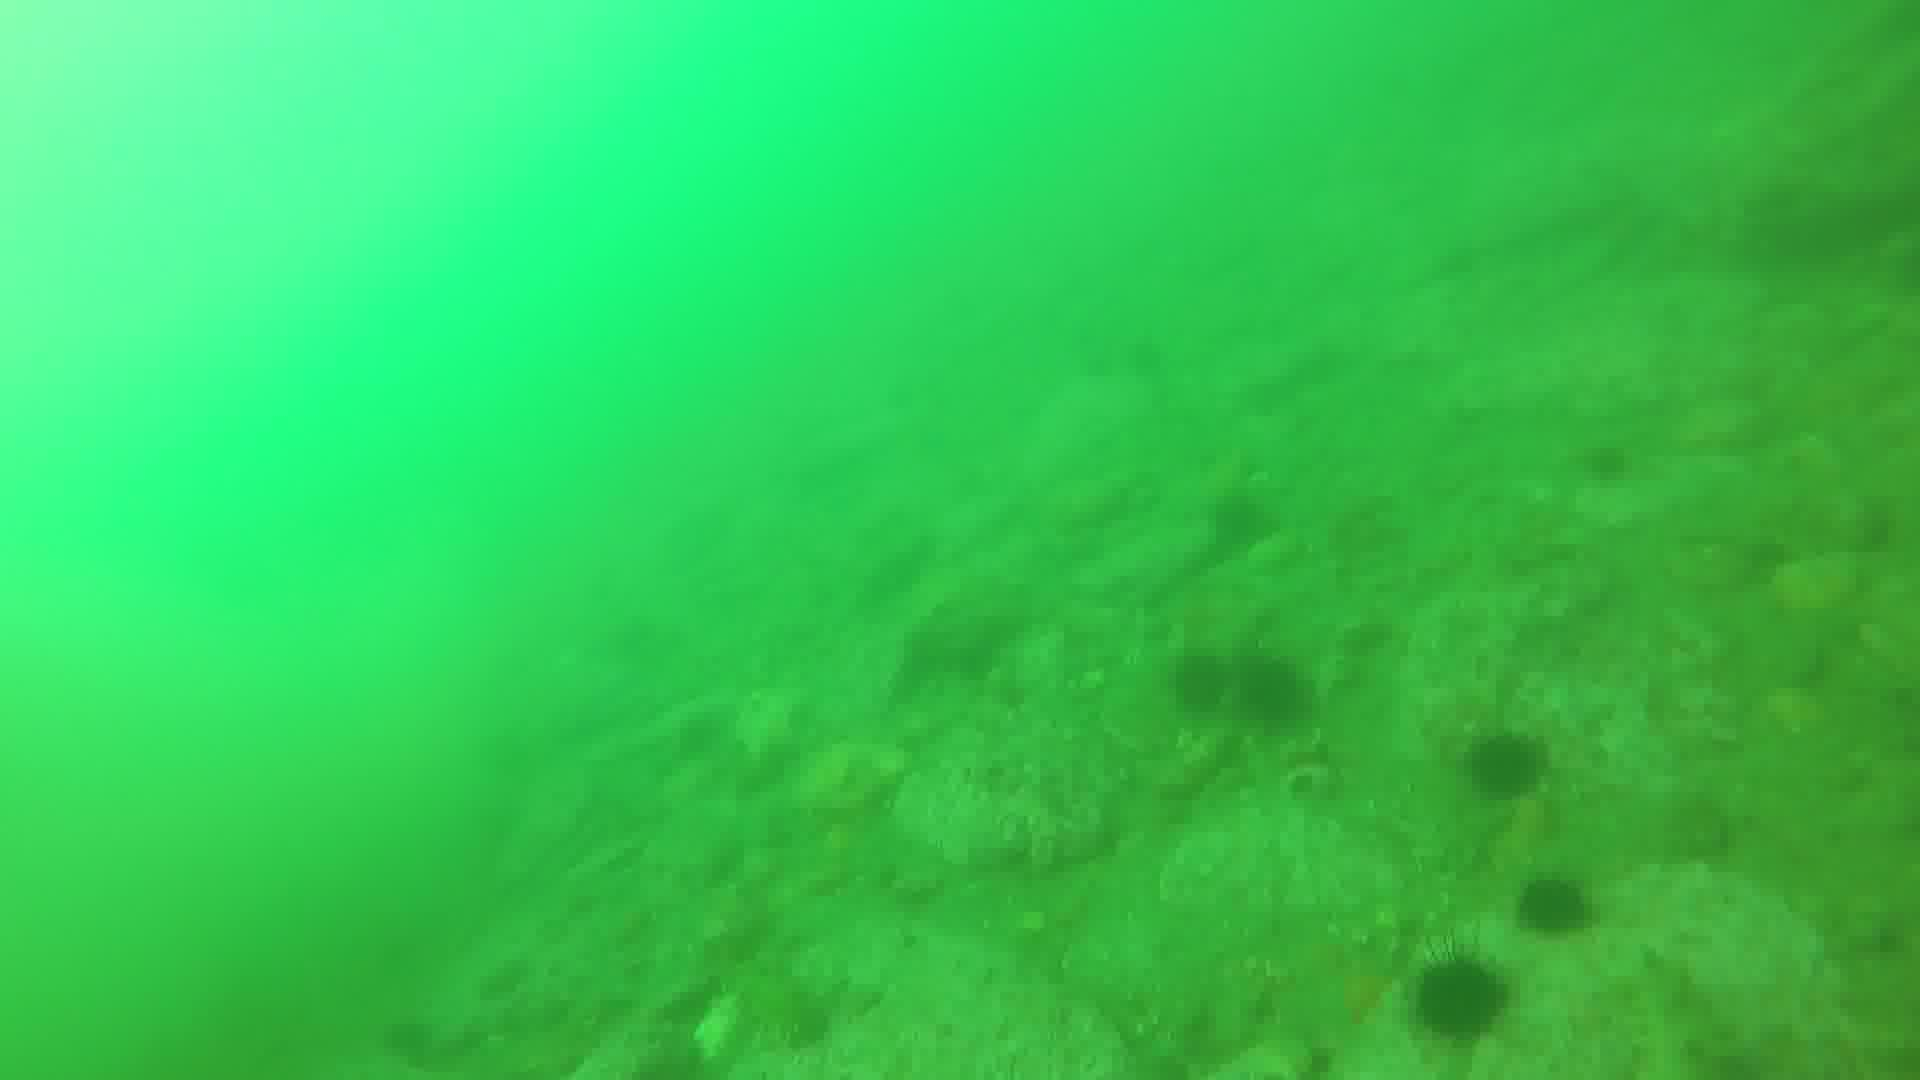echinus: (1416, 947, 1509, 1047), (1233, 655, 1315, 735), (1170, 647, 1246, 725), (1516, 874, 1600, 943), (1470, 735, 1547, 808)
holothurian: (731, 969, 827, 1043)
